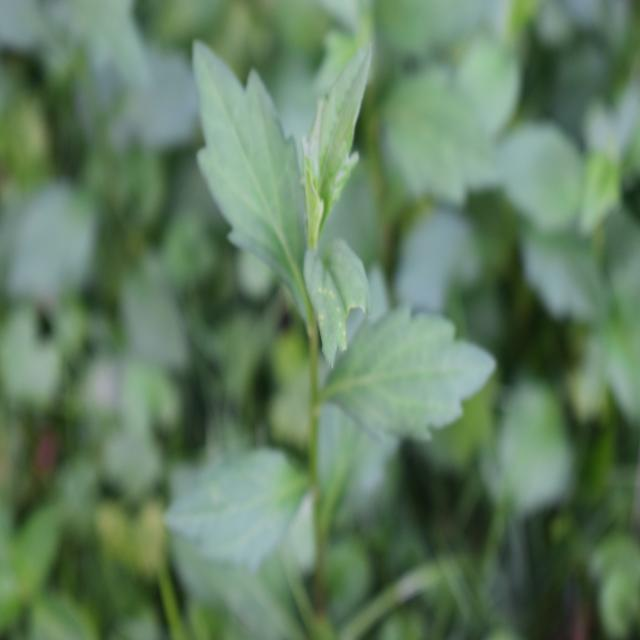Indian aster: (180, 28, 448, 569)
